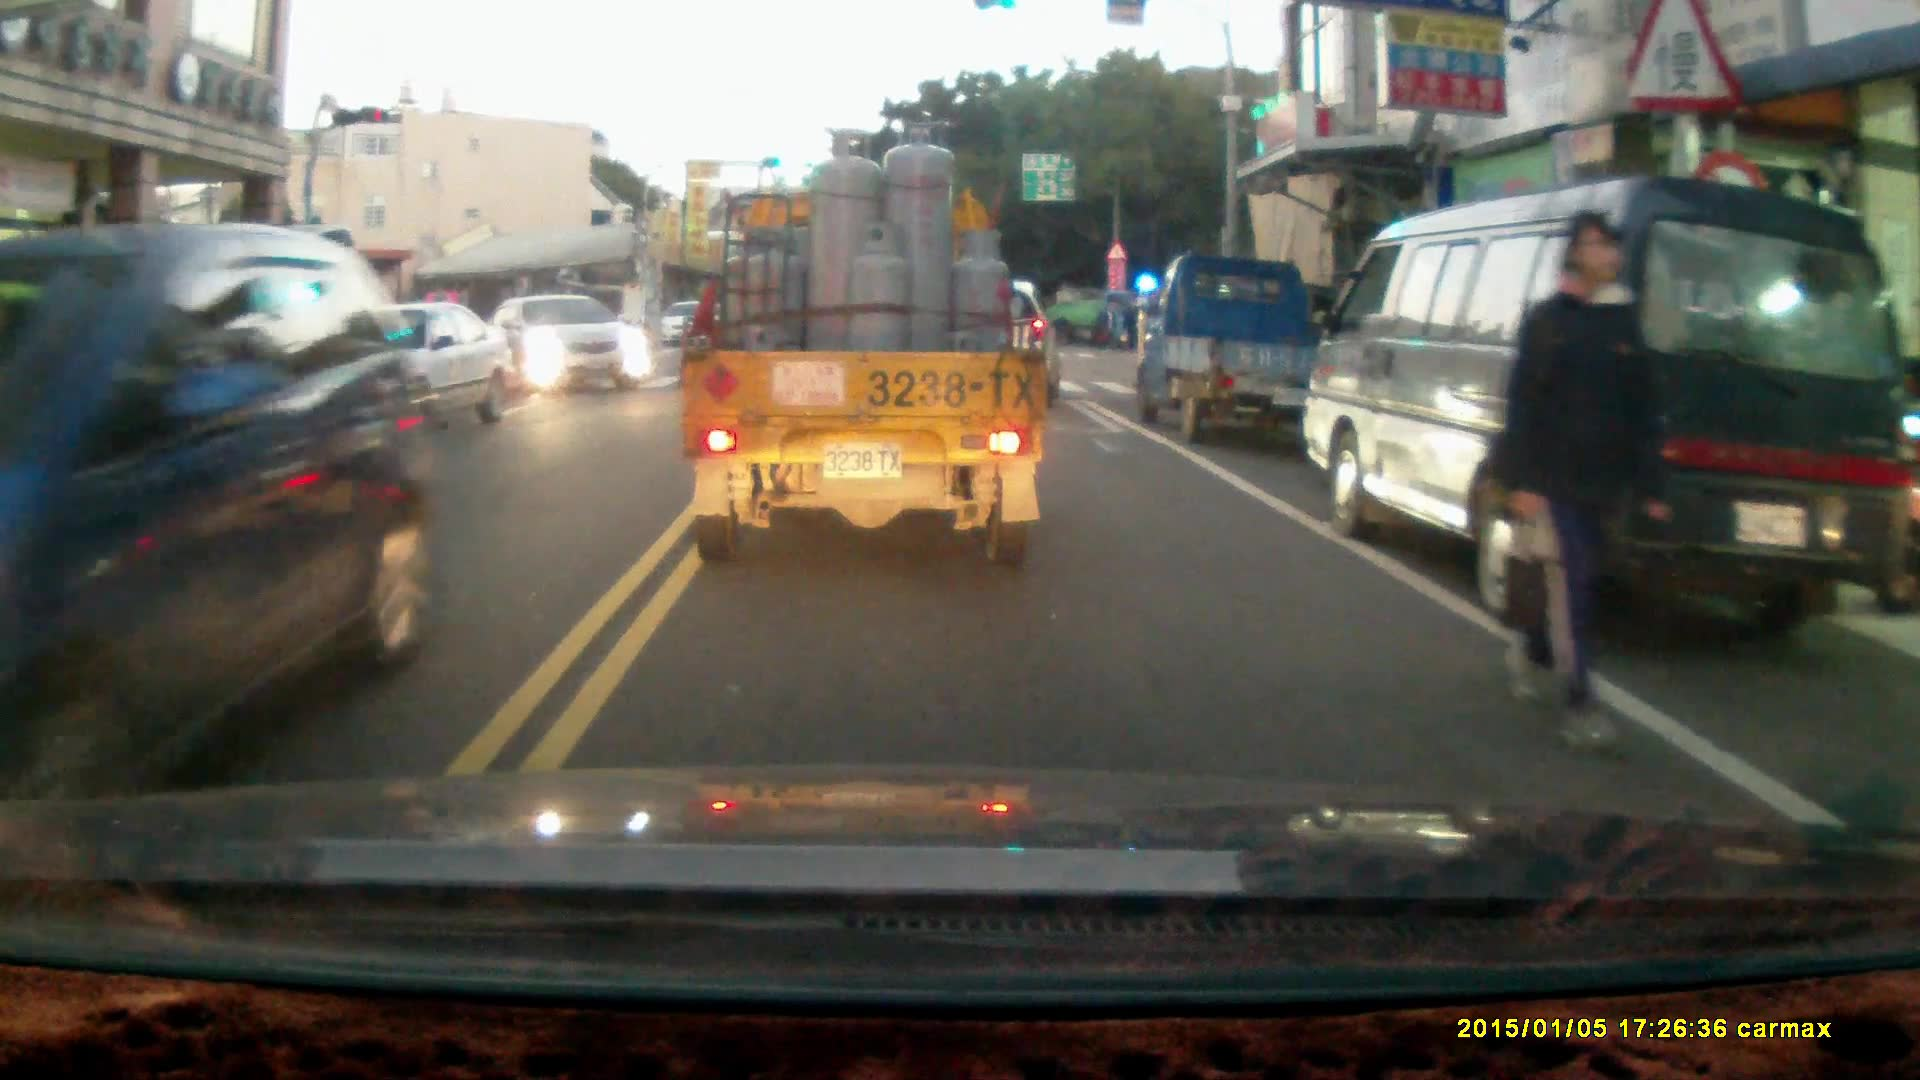pedestrian: (1502, 205, 1663, 759)
vehicle: (1302, 173, 1888, 644), (1, 221, 455, 824), (680, 124, 1050, 569), (239, 299, 513, 447), (1139, 251, 1329, 442), (494, 294, 647, 398)
